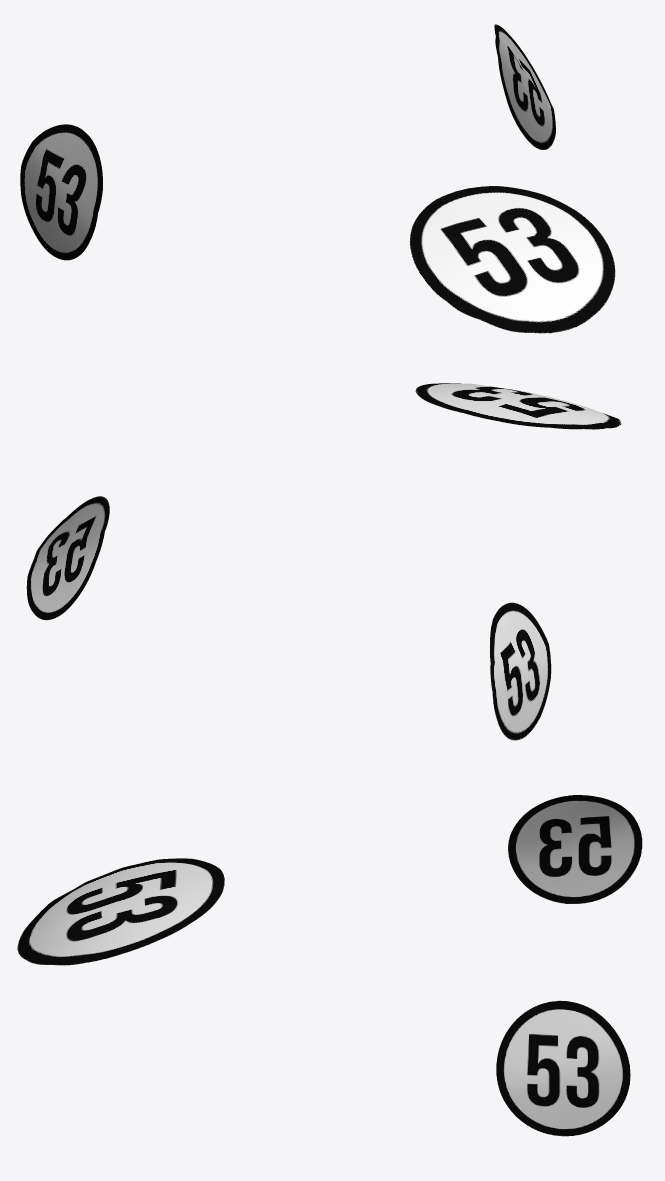
Rendered from Car_03_Decals.fbx.
3 renders of one model, top to bottom at view 1: azimuth 30°, elevation 25°; view 2: azimuth 150°, elevation 25°; view 3: azimuth 270°, elevation 25°, orthographic.
Parts seen in each view (by area): view 1: Car_03_Decals; view 2: Car_03_Decals; view 3: Car_03_Decals.
Boxes of the visible parts, x1,y1,x2,y2 form: Car_03_Decals: (20, 24, 615, 333); Car_03_Decals: (26, 383, 621, 740); Car_03_Decals: (17, 795, 642, 1136).
Size of the model in its own units: 181 by 208 by 60.66.
